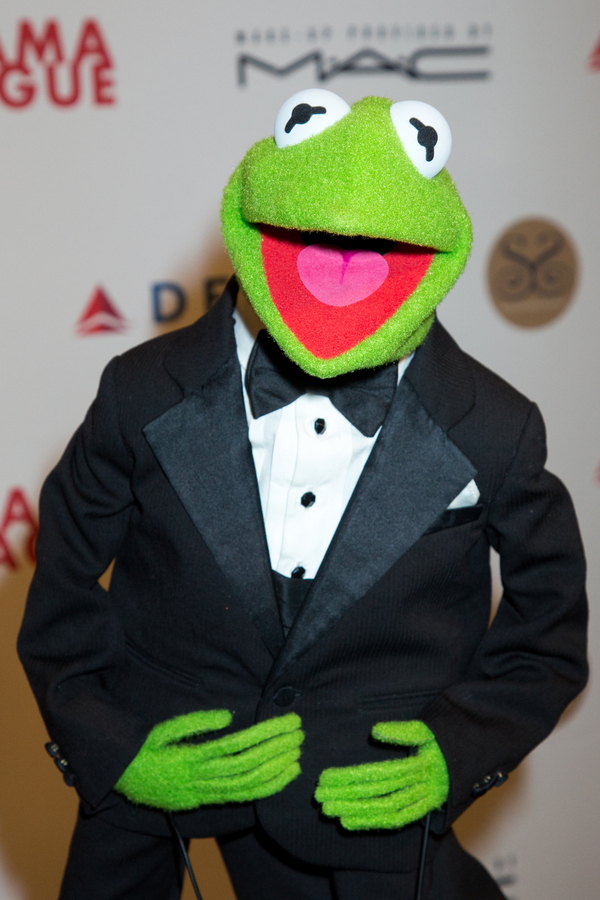kermit: (210, 87, 478, 384)
